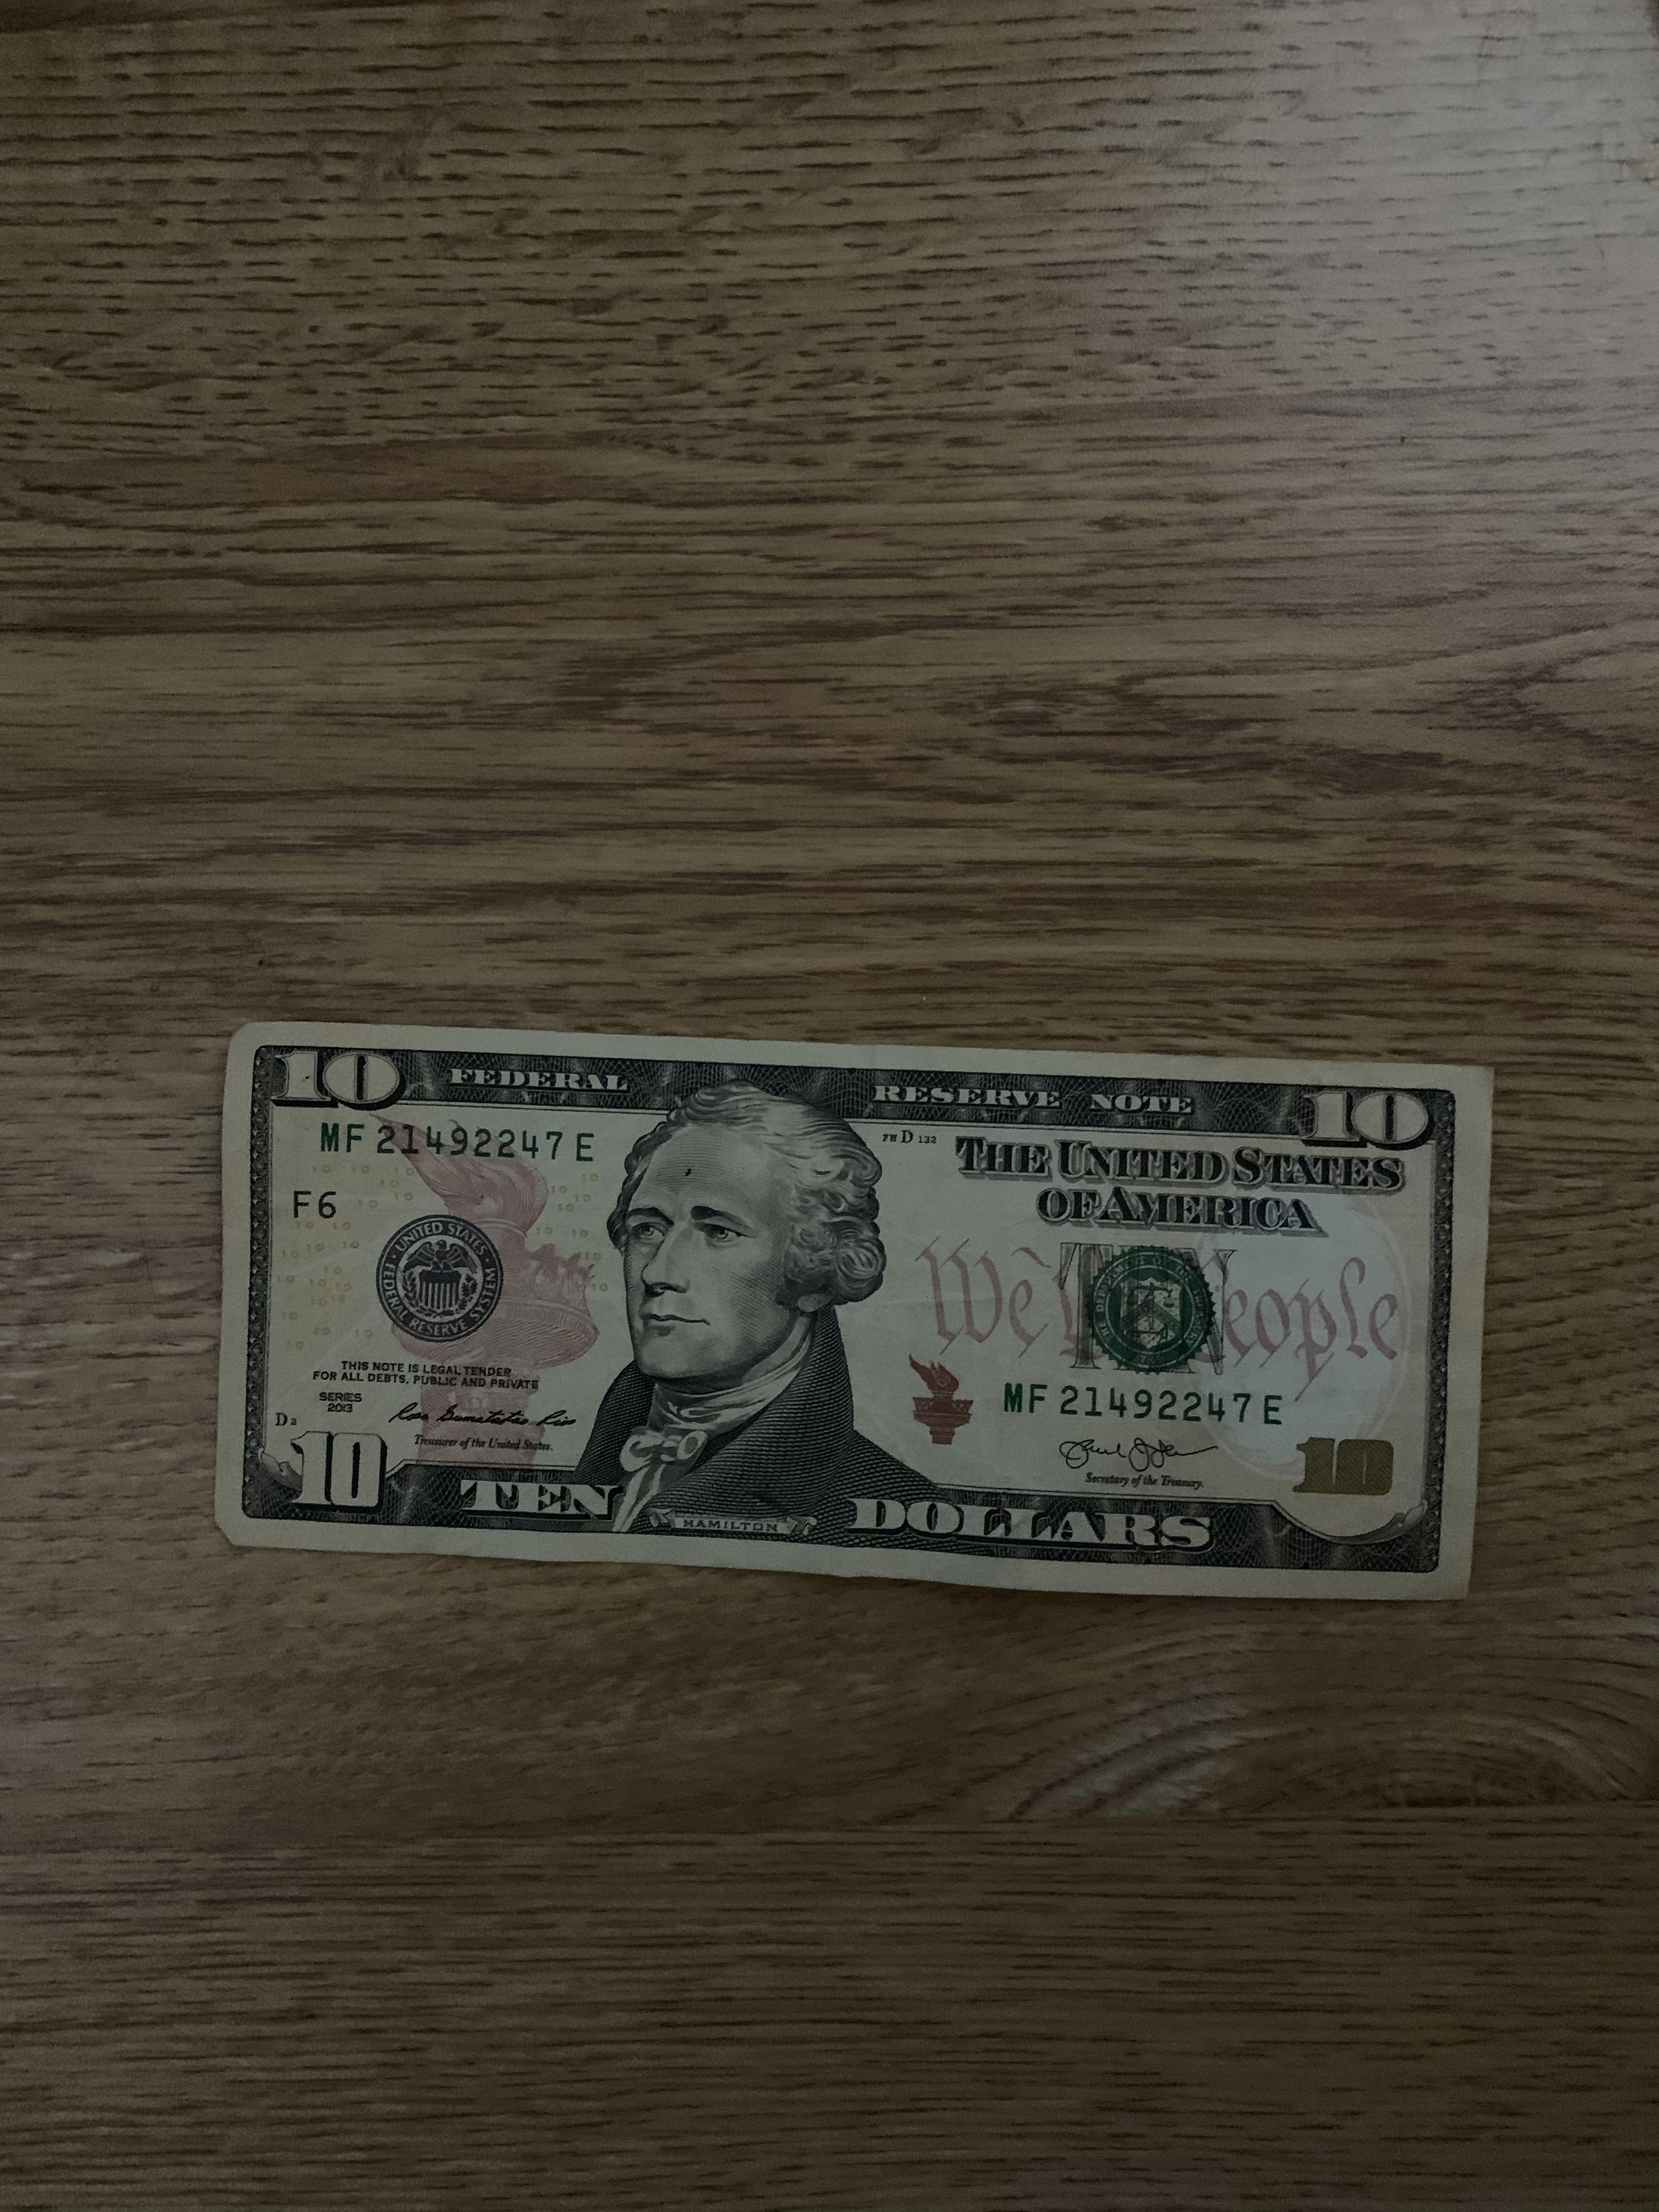TenBill: (206, 1008, 1502, 1606)
